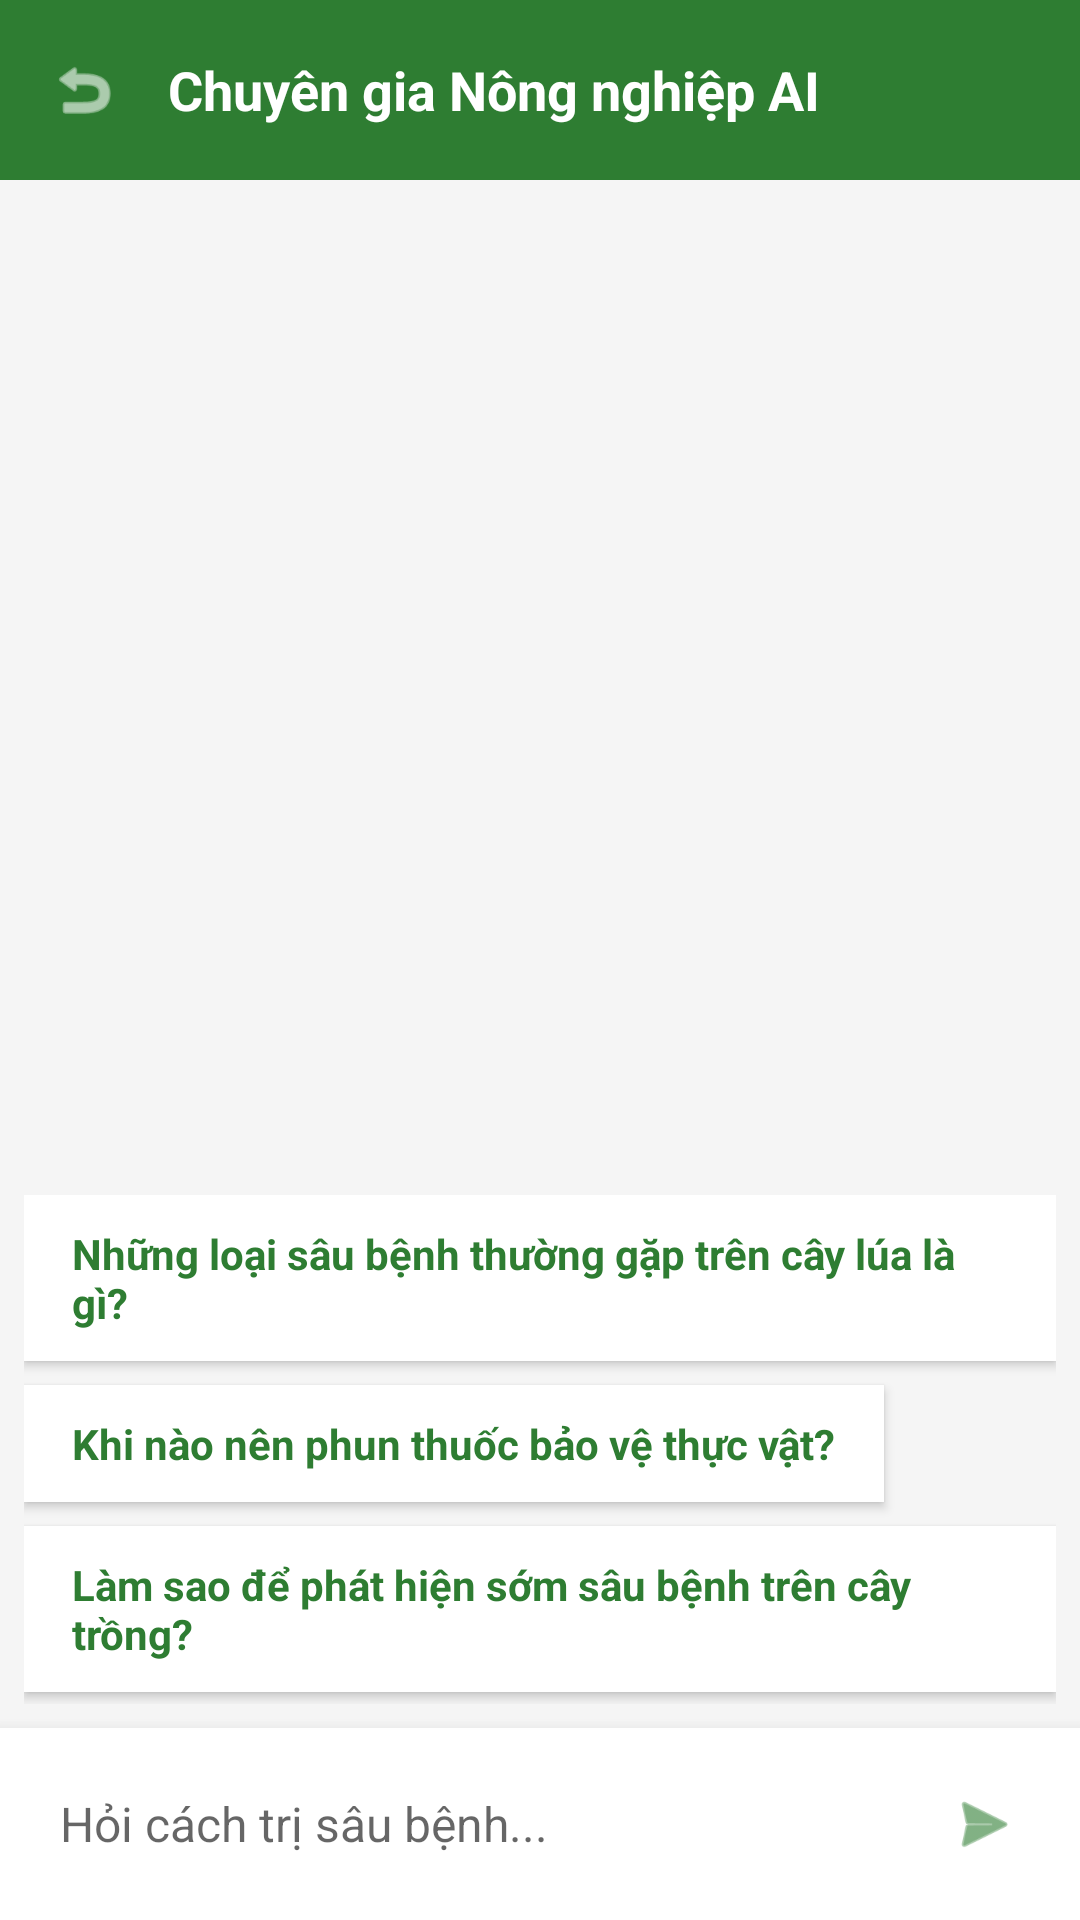

Named icons in this screenshot (1080 x 1920) and their bounding boxes, (x1, y1, x2, y2):
Quay lại: (59, 67, 111, 114)
send: (962, 1802, 1008, 1847)
